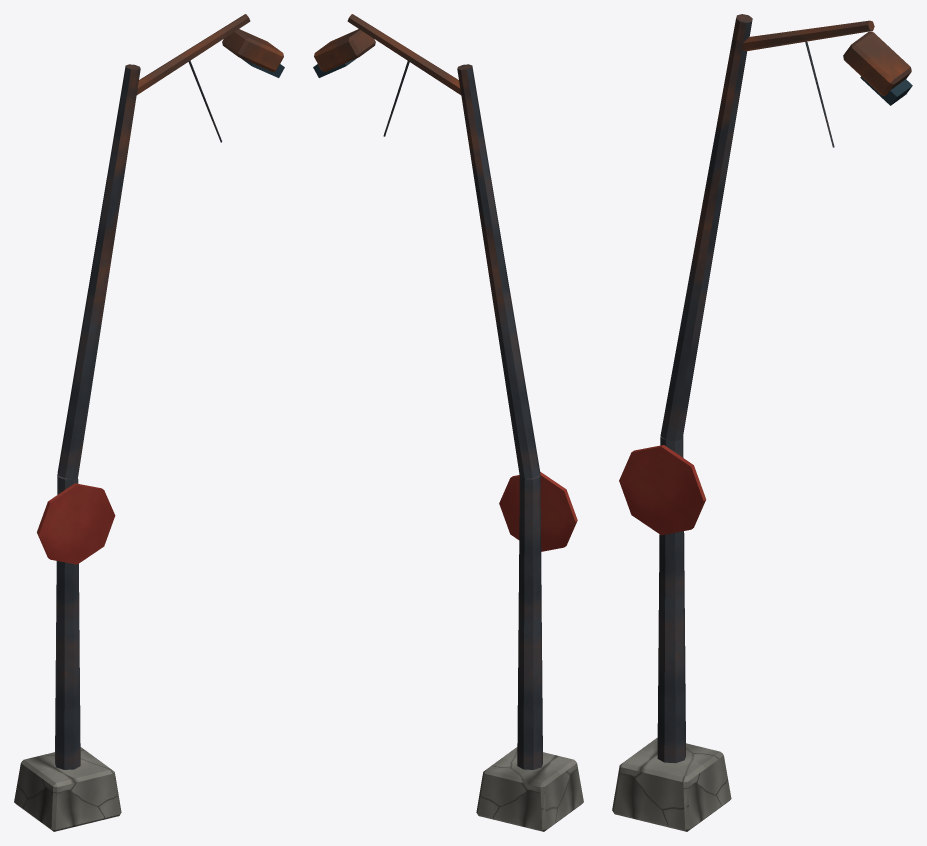
File: env_street_lamp_broken.glb
The picture shows the model from 3 angles, left to right: view 1: azimuth 30°, elevation 25°; view 2: azimuth 150°, elevation 25°; view 3: azimuth 330°, elevation 25°; orthographic projection. The views are drawn at different scales.
Parts seen in each view (by area): view 1: Env_street_lamp_broken; view 2: Env_street_lamp_broken; view 3: Env_street_lamp_broken.
Part boxes in pixels (bbox=[...]): Env_street_lamp_broken: bbox=[14, 14, 284, 831]; Env_street_lamp_broken: bbox=[313, 14, 583, 831]; Env_street_lamp_broken: bbox=[612, 14, 912, 831].
Size of the model in its own units: 1.82 by 5.28 by 0.5155.
Materials: 5 (4 with a texture image).
